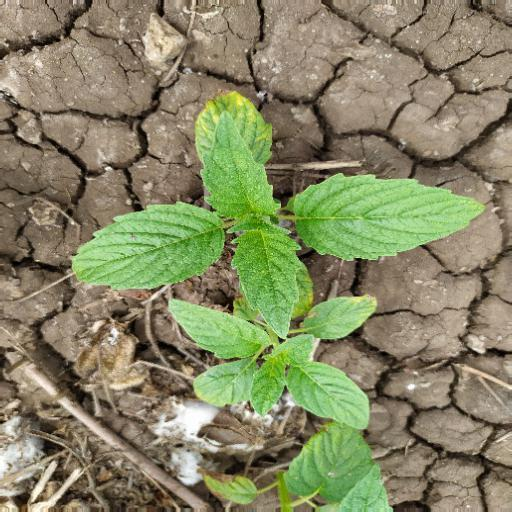crop: (61, 83, 489, 430)
